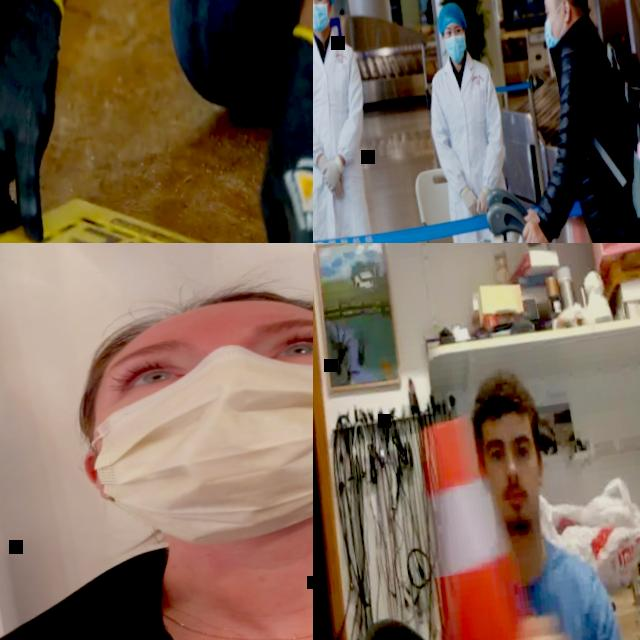Hardhat: (76, 272, 313, 369)
Mask: (74, 326, 313, 560), (443, 34, 468, 67), (313, 2, 332, 34), (542, 20, 560, 52)
NO-Hardhat: (470, 372, 536, 431), (610, 43, 640, 84), (434, 0, 467, 30)
NO-Mask: (499, 486, 540, 533)
NO-Safety Vest: (0, 506, 313, 640), (553, 25, 640, 243), (430, 63, 508, 211), (313, 38, 370, 226), (516, 552, 598, 640)
Person: (0, 243, 313, 640), (0, 0, 313, 243), (373, 361, 628, 640), (483, 0, 640, 243), (413, 0, 558, 243), (313, 0, 406, 243), (541, 22, 640, 243)
Safety Cone: (383, 401, 578, 640)
